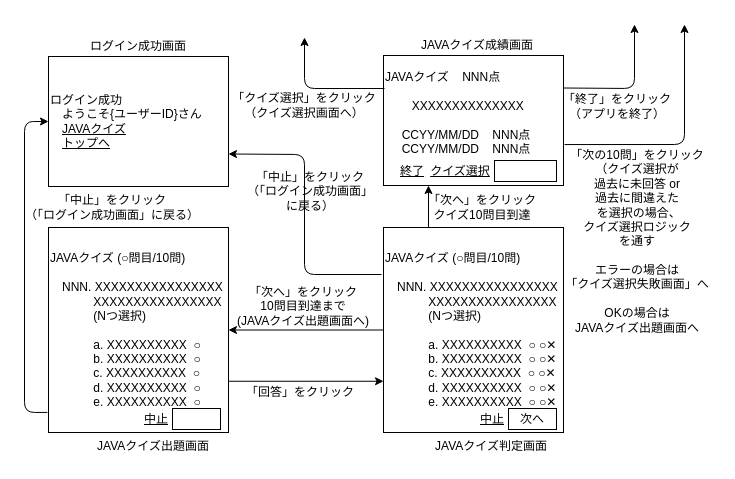
The diagram is 735 pixels wide and 479 high, and some of its shapes have lost their labels. The box of each missing label's shape, as (x1, y1, x2, y2) in pixels:
回答: (172, 408, 220, 430)
次の10問: (494, 160, 556, 182)
